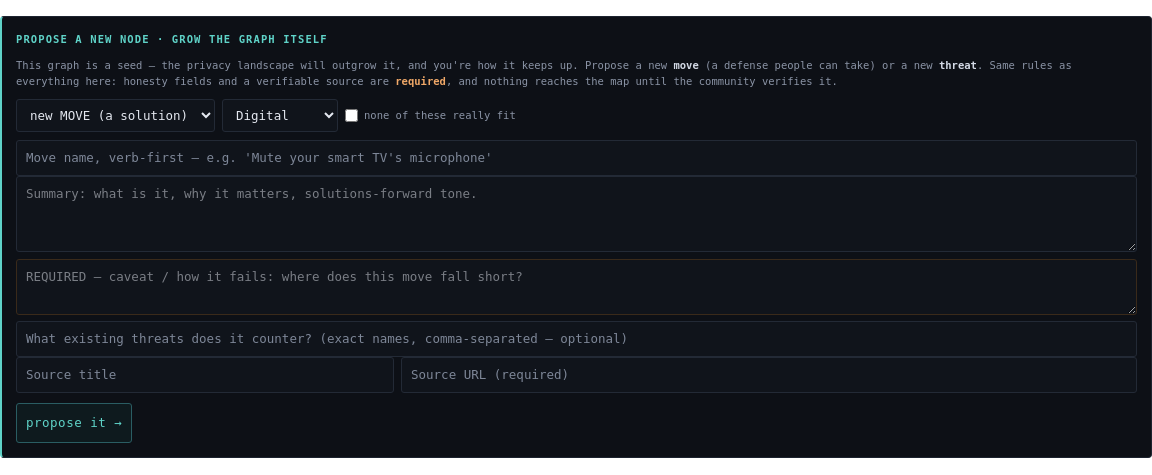
Test: ProposeNode › blocks submit when source URL is empty — shows error, does NOT POST
Type "Use a VPN for all traffic" into the field with placeholder "Move name, verb-first" at (576, 158), box [16,140,1137,176]
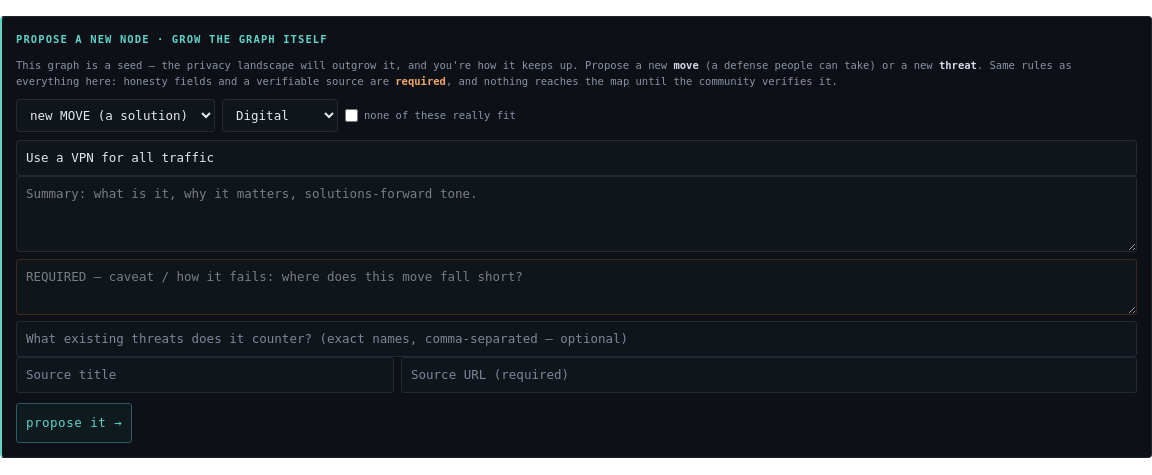
Type "A VPN tunnels your traffic and masks your IP address from your ISP and local network observers." into the text box with placeholder "Summary: what is it" at (576, 214), box [16,176,1137,252]
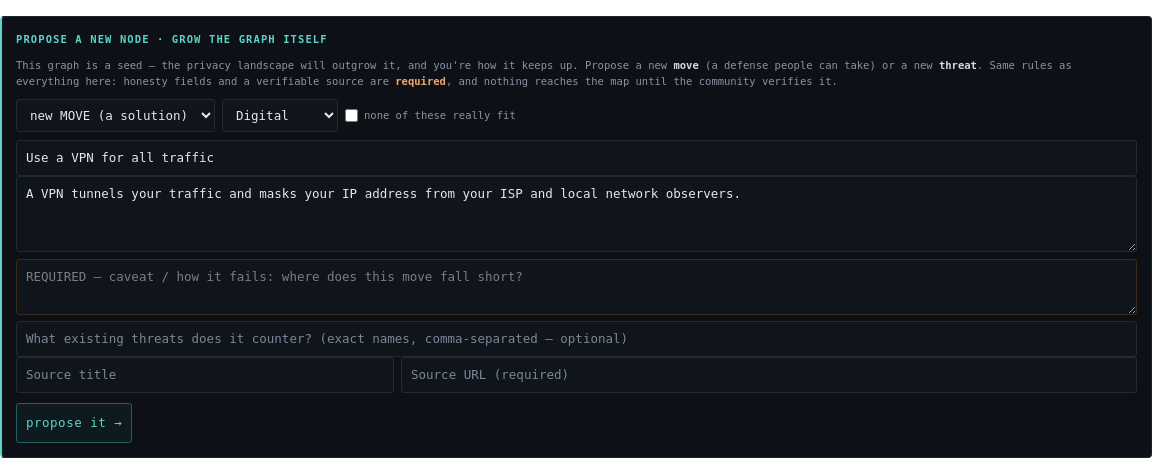
Type "VPNs shift trust to the provider and do not prevent browser fingerprinting or cookies." into the text box with placeholder "REQUIRED — caveat" at (576, 287), box [16,259,1137,315]
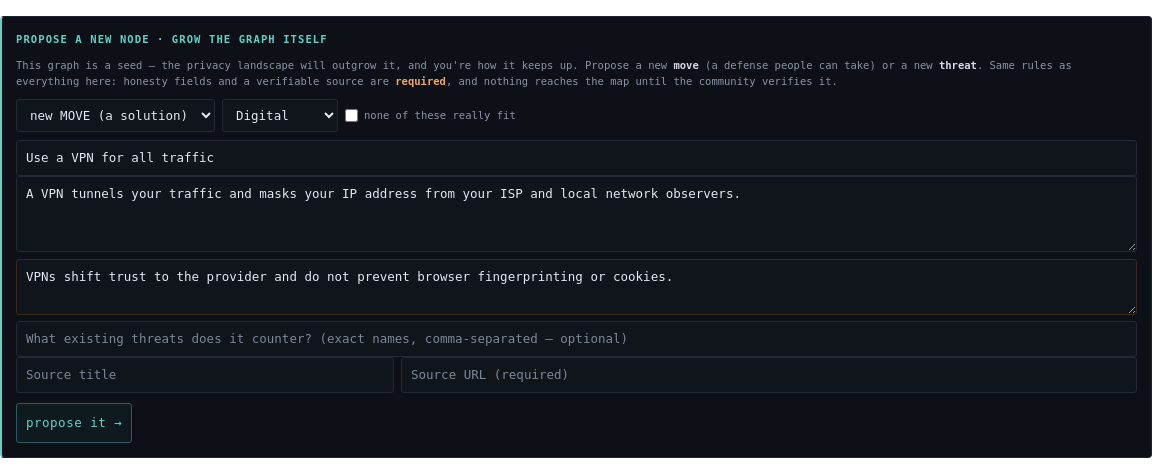
Click the button "propose it →" at (74, 423), box [16,403,132,443]
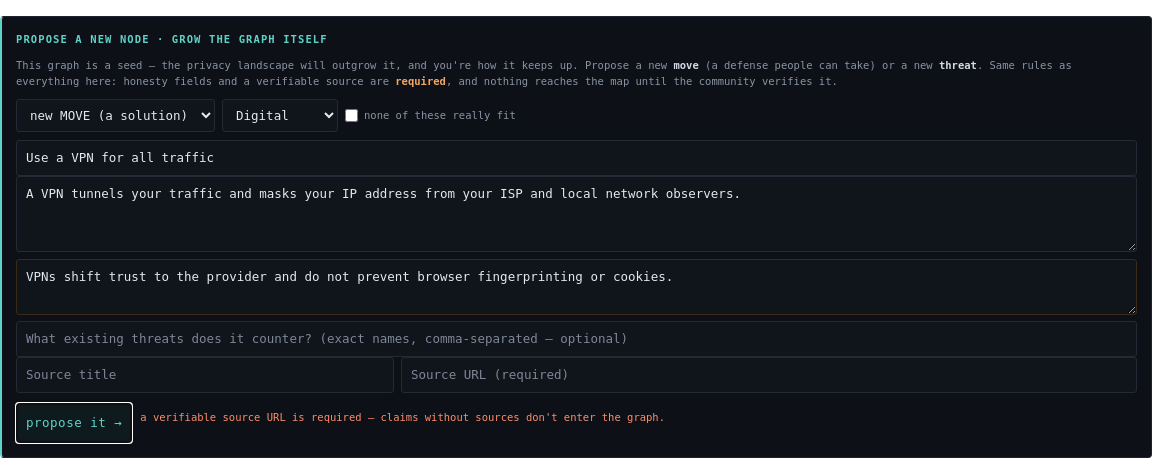
Check: the text "claims without sources don't enter the graph" is shown, box [140,411,665,423]
